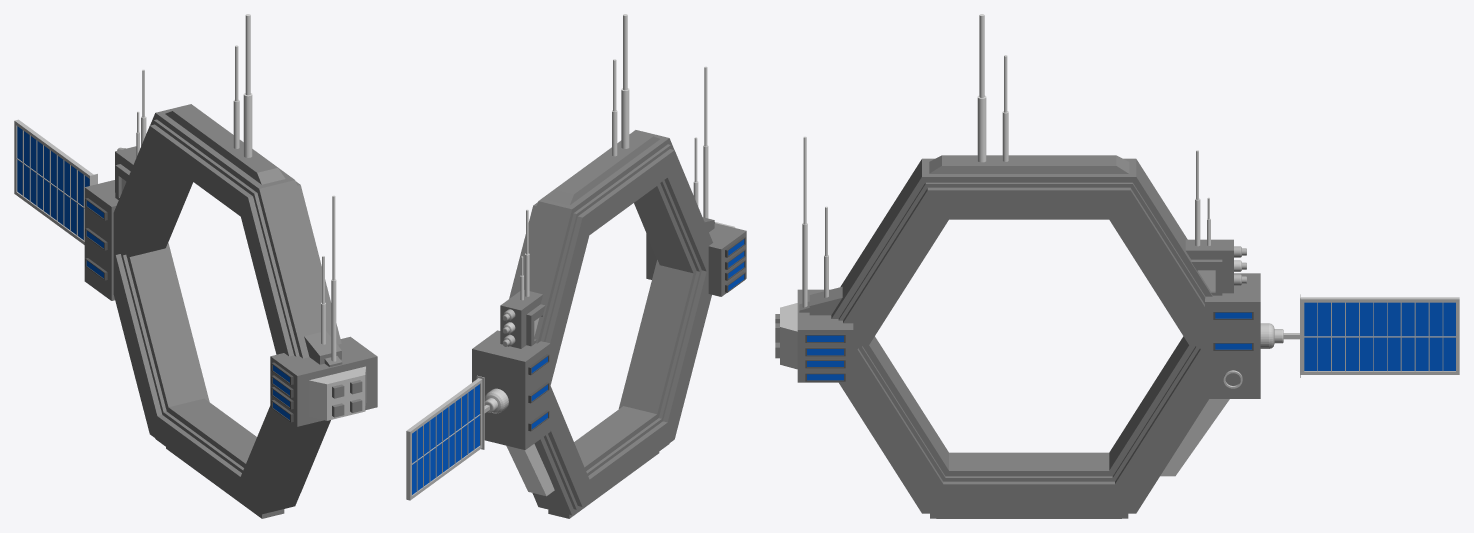
File: Hyperlane.fbx
The picture shows the model from 3 angles, left to right: view 1: azimuth 30°, elevation 25°; view 2: azimuth 150°, elevation 25°; view 3: azimuth 270°, elevation 25°; orthographic projection. The views are drawn at different scales.
Visible parts, largest first — view 1: Cylinder.020, Cube.015, Cube.001, Cube.017, Cube.031, Cube.016, Cube.010, Cylinder.016, Cylinder.004, Cylinder.017, Cube; view 2: Cylinder.020, Cube.017, Cube.015, Cube.001, Cube.016, Cube.032, Cube, Cylinder.016, Cube.030, Cylinder.004; view 3: Cylinder.020, Cube.015, Cube.017, Cube.001, Cube.016, Cube.032, Cube, Cube.031, Cube.030.
Part boxes in pixels (x1,y1,x2,y2): Cylinder.020: [113, 104, 341, 518]; Cube.015: [17, 126, 89, 239]; Cube.001: [270, 336, 377, 426]; Cube.017: [84, 180, 118, 300]; Cube.031: [308, 366, 366, 420]; Cube.016: [14, 119, 93, 244]; Cube.010: [304, 331, 341, 364]; Cylinder.016: [243, 93, 252, 157]; Cylinder.004: [331, 279, 336, 361]; Cylinder.017: [245, 14, 250, 95]; Cube: [115, 146, 140, 192]; Cylinder.020: [509, 130, 712, 518]; Cube.017: [472, 330, 550, 449]; Cube.015: [412, 384, 479, 494]; Cube.001: [646, 223, 746, 296]; Cube.016: [406, 378, 482, 500]; Cube.032: [506, 444, 554, 496]; Cube: [500, 290, 542, 348]; Cylinder.016: [621, 88, 629, 148]; Cube.030: [526, 304, 545, 346]; Cylinder.004: [703, 145, 708, 218]; Cylinder.020: [831, 155, 1212, 518]; Cube.015: [1304, 302, 1455, 370]; Cube.017: [1205, 273, 1260, 398]; Cube.001: [797, 289, 853, 382]; Cube.016: [1300, 297, 1459, 374]; Cube.032: [1160, 399, 1229, 476]; Cube: [1185, 239, 1233, 293]; Cube.031: [780, 303, 797, 369]; Cube.030: [1191, 259, 1222, 295].
Size of the model in its own units: 47.56 by 258 by 319.
